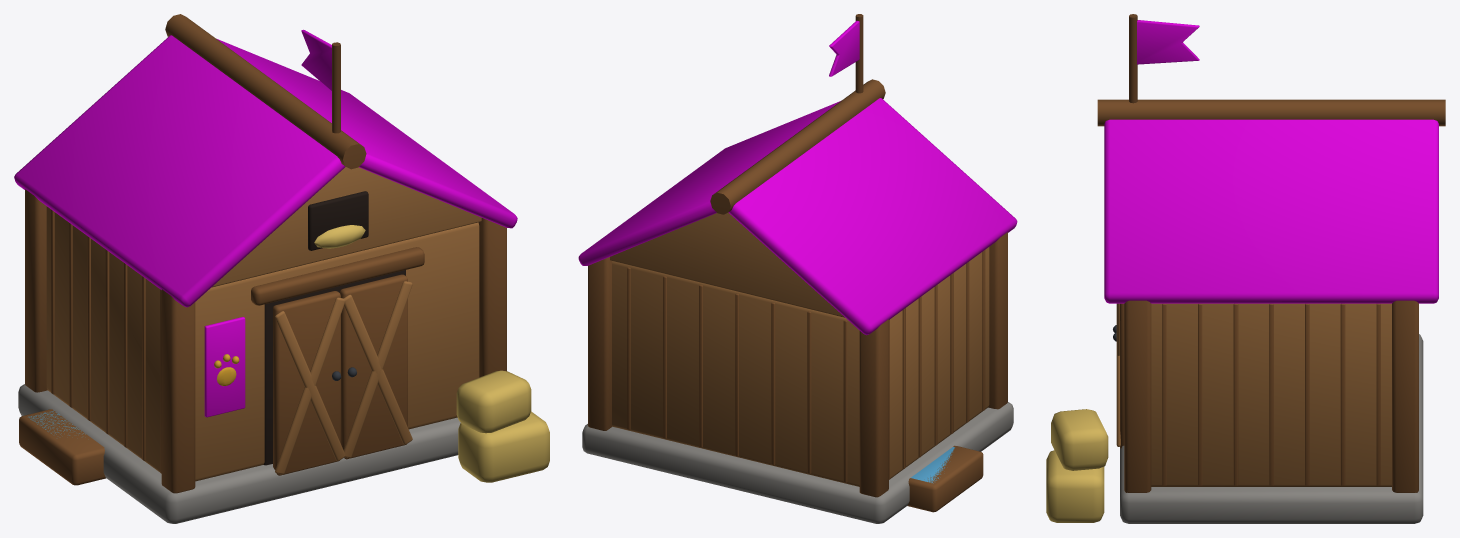
File: estabulo.glb
The picture shows the model from 3 angles, left to right: view 1: azimuth 30°, elevation 25°; view 2: azimuth 150°, elevation 25°; view 3: azimuth 270°, elevation 25°; orthographic projection. The views are drawn at different scales.
Parts seen in each view (by area): view 1: corpo, porta_d, porta_e; view 2: corpo; view 3: corpo, porta_e.
Part boxes in pixels (left/top/right/bottom): corpo: left=14, top=14, right=549, bottom=523; porta_d: left=273, top=291, right=344, bottom=475; porta_e: left=340, top=274, right=412, bottom=459; corpo: left=578, top=14, right=1017, bottom=523; corpo: left=1046, top=14, right=1445, bottom=523; porta_e: left=1113, top=303, right=1124, bottom=448.
Size of the model in its own units: 1.91 by 2.12 by 1.79.
